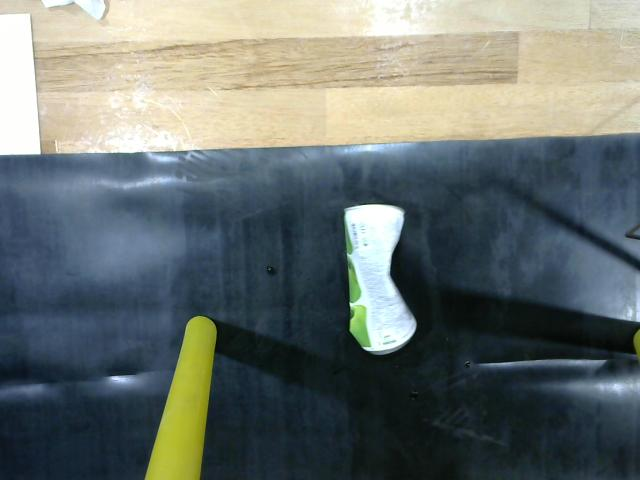can: (344, 201, 420, 360)
